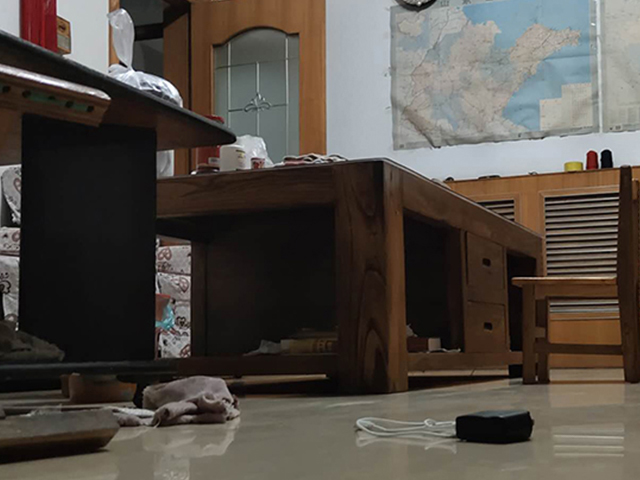stool: (510, 161, 640, 387)
table: (156, 154, 546, 397), (1, 26, 239, 412)
wire: (352, 407, 536, 446)
